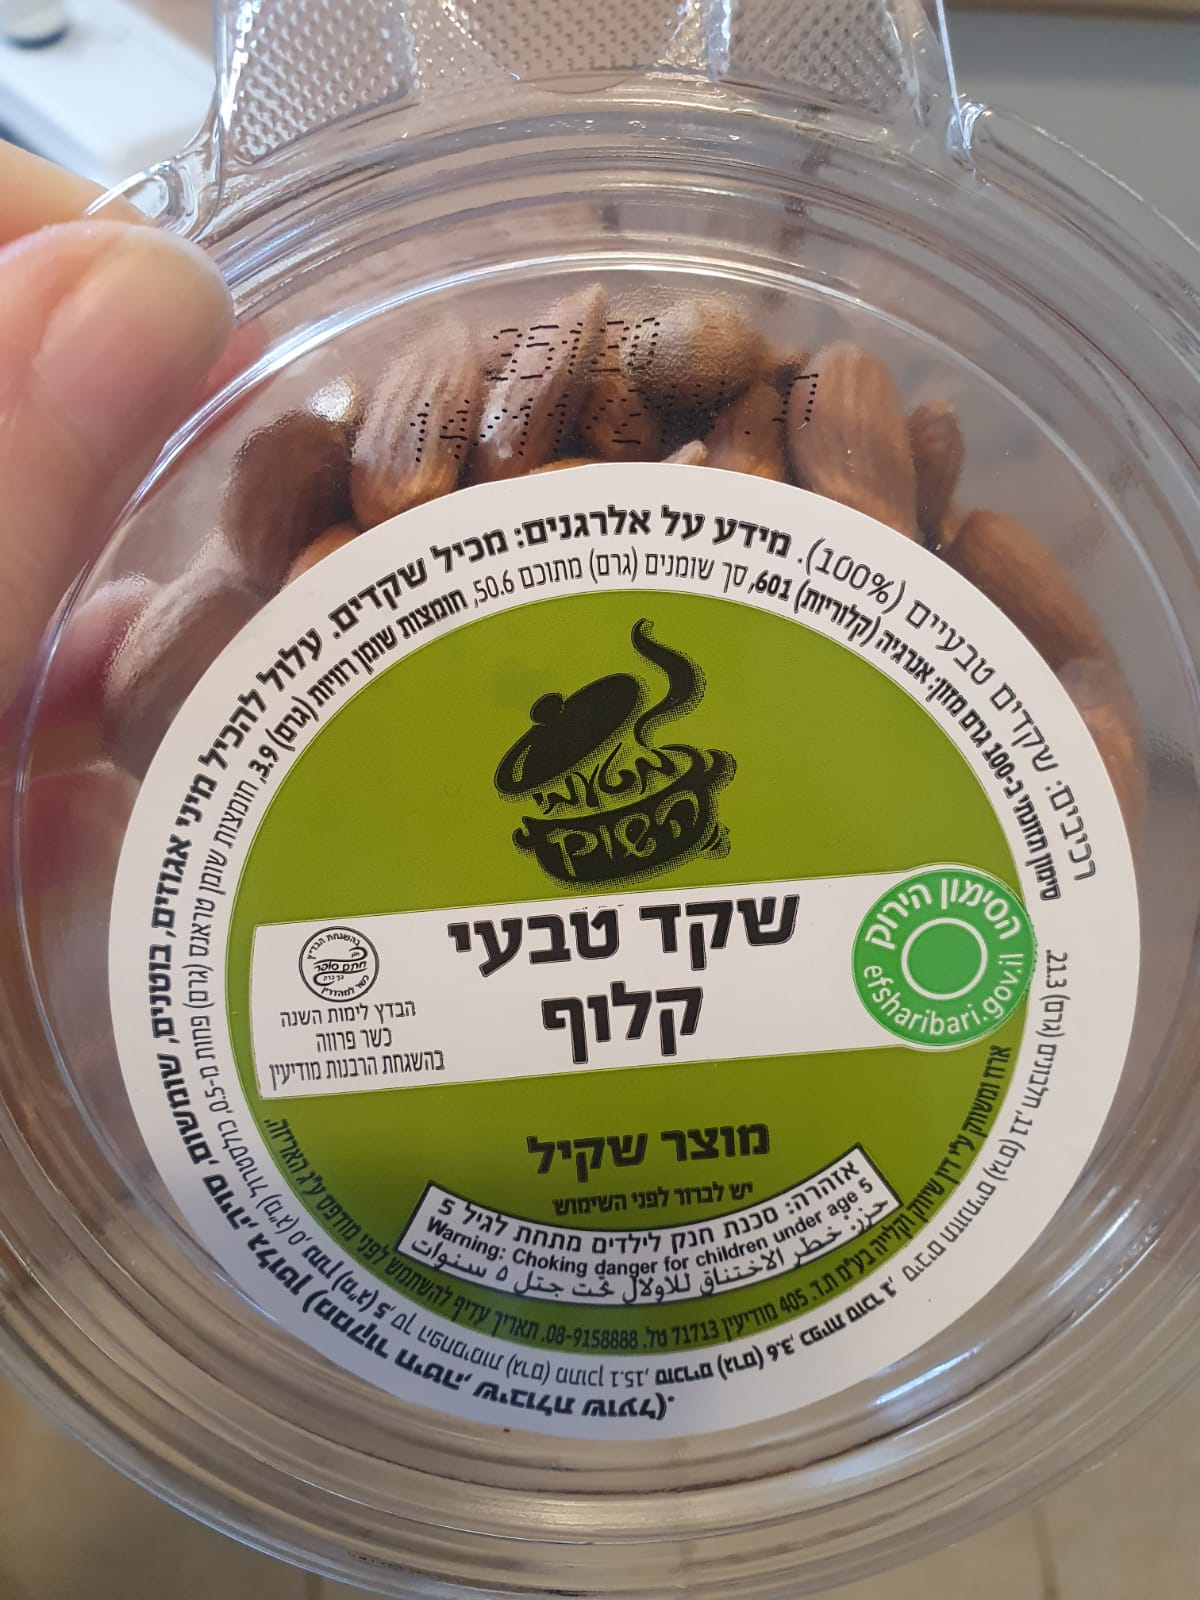green: (847, 863, 1039, 1054)
